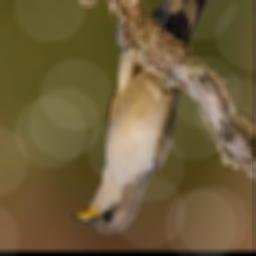Cuckoo: (72, 0, 220, 234)
